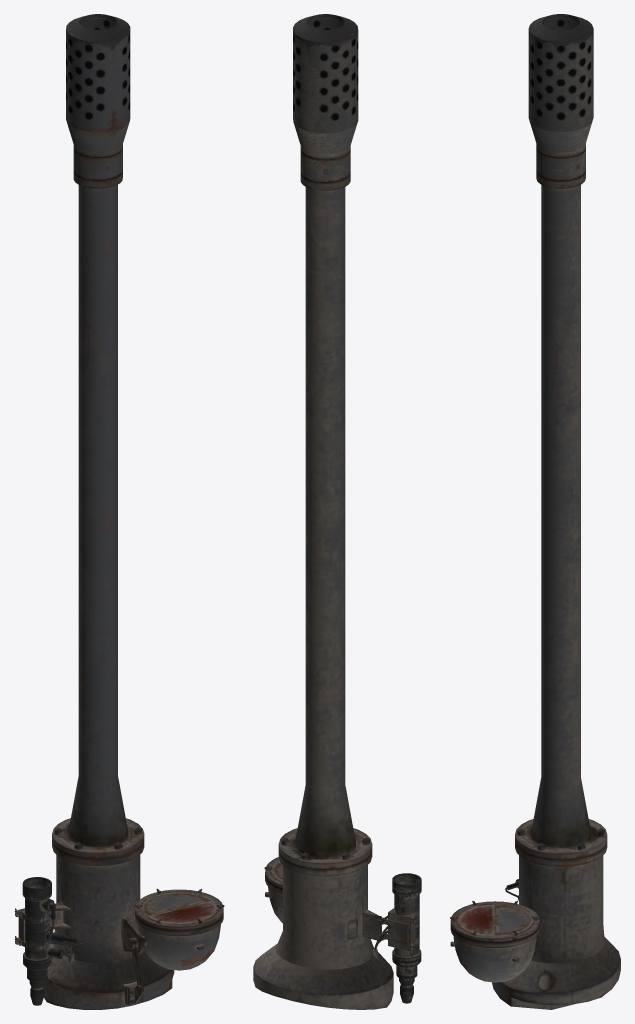
The model's file is Gun_09.glb.
3 views of the same model, side by side, from view 1: azimuth 30°, elevation 25°; view 2: azimuth 150°, elevation 25°; view 3: azimuth 270°, elevation 25° (orthographic).
Parts seen in each view (by area): view 1: set_0_group_0; view 2: set_0_group_0; view 3: set_0_group_0.
Part boxes in pixels (<box>): set_0_group_0: <box>14,14,224,1009</box>; set_0_group_0: <box>253,14,421,1009</box>; set_0_group_0: <box>450,14,620,1009</box>.
Size of the model in its own units: 1.01 by 5.4 by 0.8682.
1 material, 1 textured.
